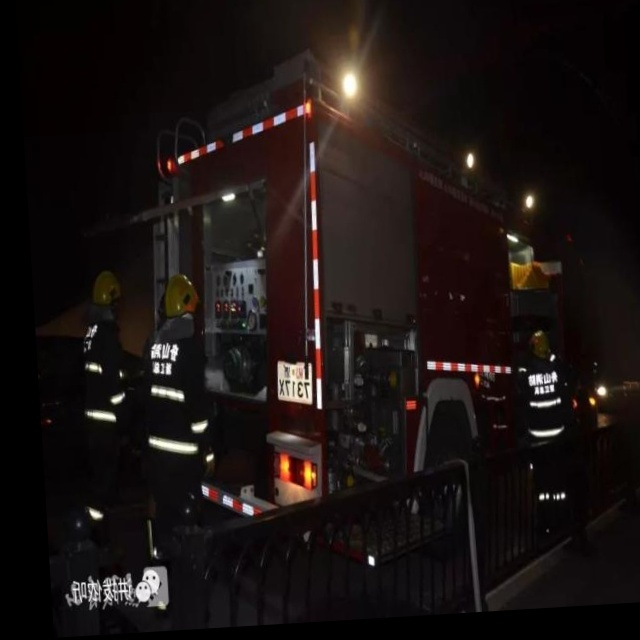Con_Chaleco: (142, 338, 202, 459), (79, 327, 124, 428), (523, 359, 566, 442)
